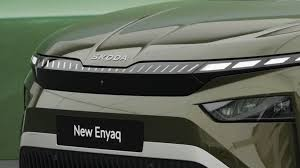car: (17, 3, 300, 168)
